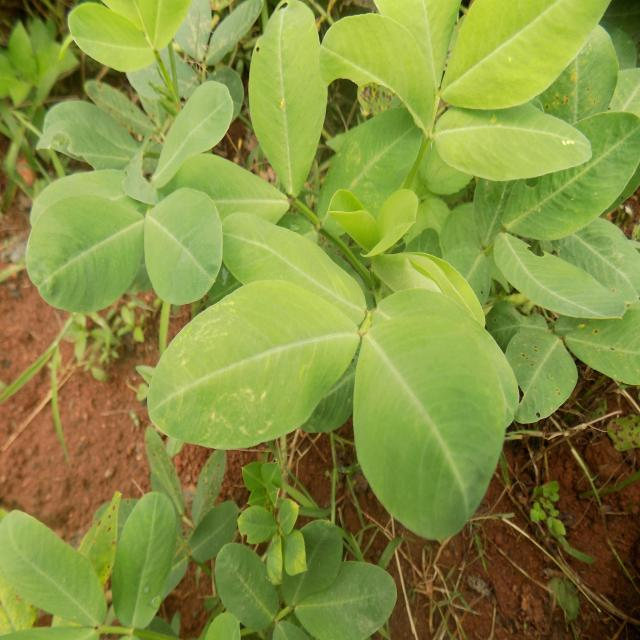Ground nut_healthy: (357, 287, 514, 536), (144, 282, 346, 437), (446, 0, 600, 104), (19, 191, 142, 315), (428, 96, 590, 185), (220, 214, 352, 310), (492, 225, 614, 322), (251, 6, 311, 190), (110, 495, 184, 640)
Ground nut_tikka leaf spot: (507, 320, 580, 425)
